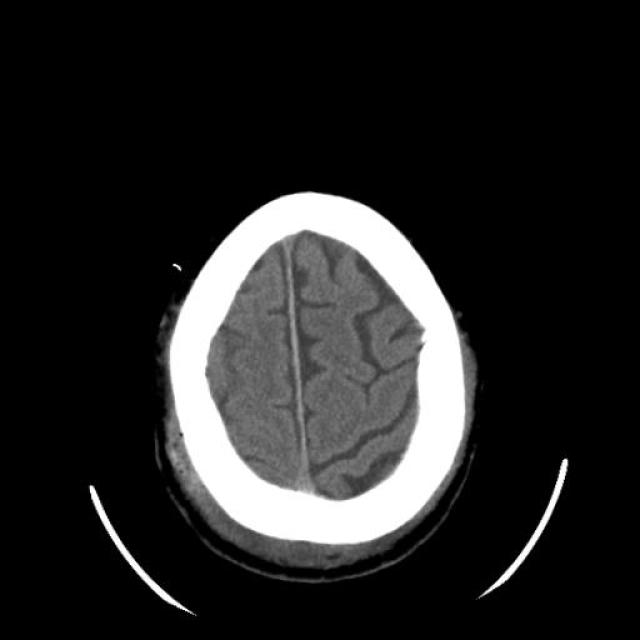Subdural: (253, 223, 342, 527)
